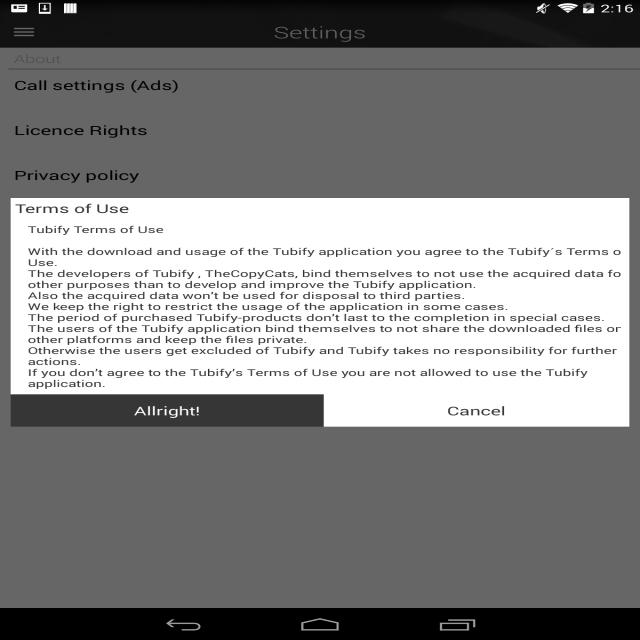Button: (5, 393, 328, 428)
TextView: (31, 248, 626, 376), (405, 399, 552, 425), (9, 76, 184, 96), (9, 121, 158, 142), (268, 20, 372, 46), (15, 163, 138, 184), (11, 199, 137, 214), (26, 223, 175, 235)
